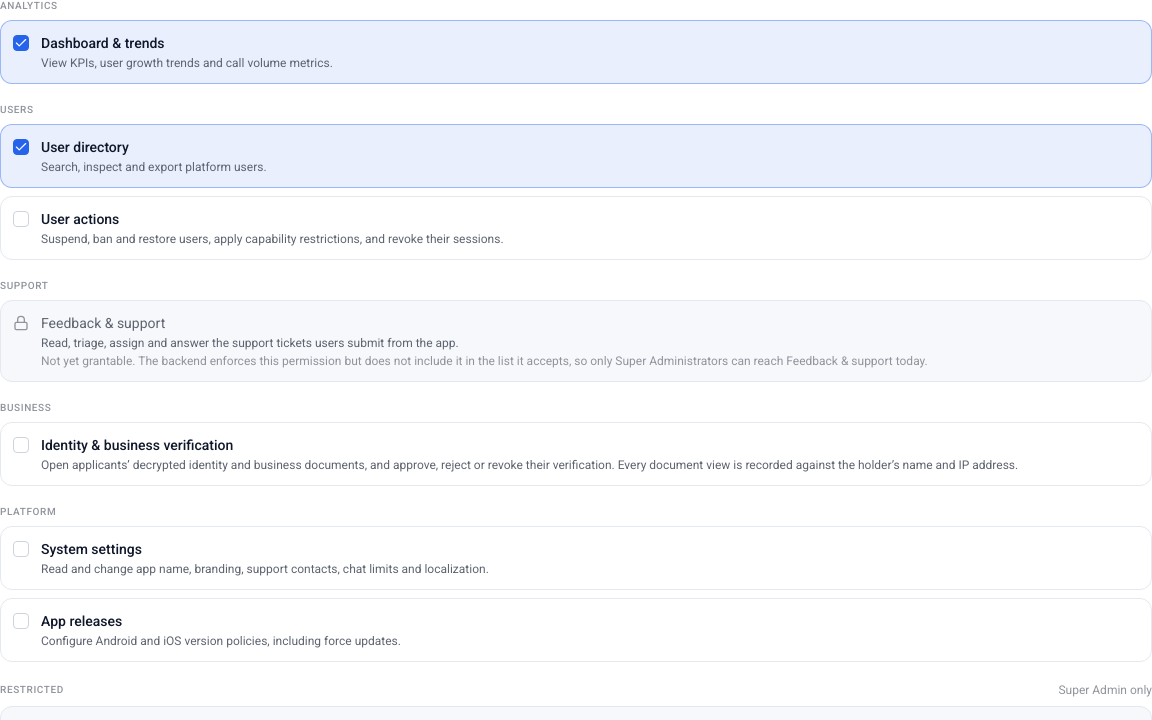
permission grid › removes a key when its box is cleared
What coordinates should you click on to do the following:
click the checkbox named "User directory" next to "User directory"
I would click on:
 (21, 147)
Its box is [13, 139, 29, 155].
(page scrolled)
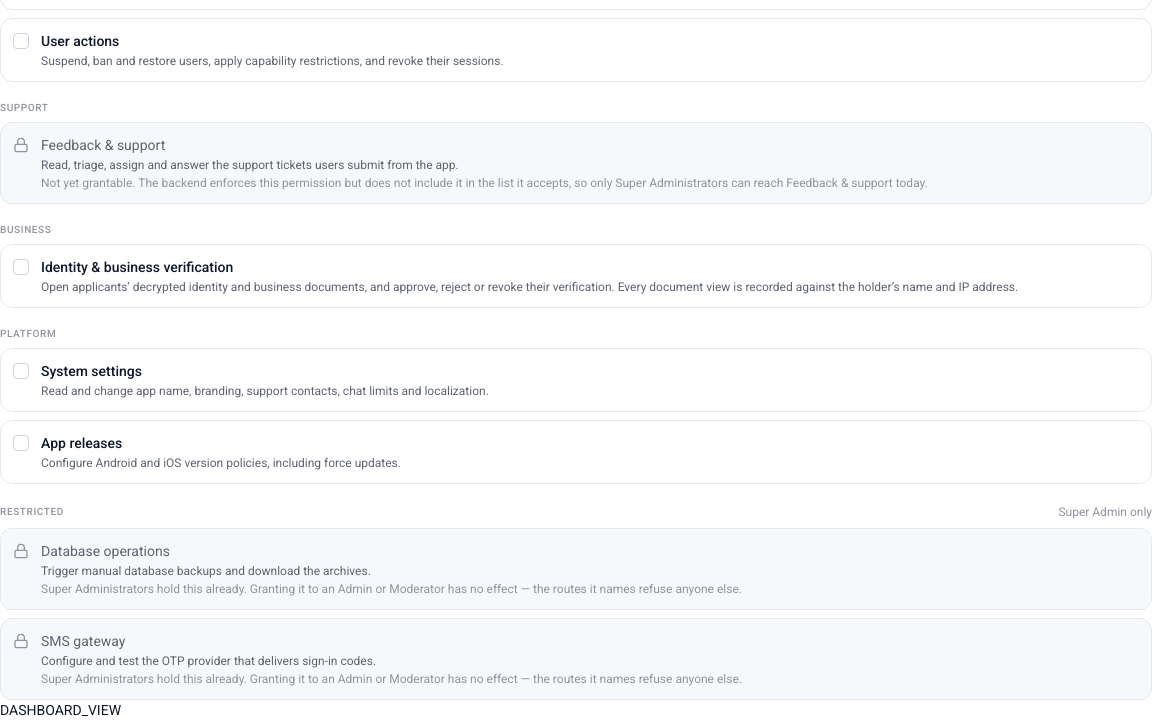
Expected: the text with test id "value" does not show "USER_VIEW", [0, 702, 121, 718]
Now the text with test id "value" reads "DASHBOARD_VIEW", box [0, 702, 121, 718]
